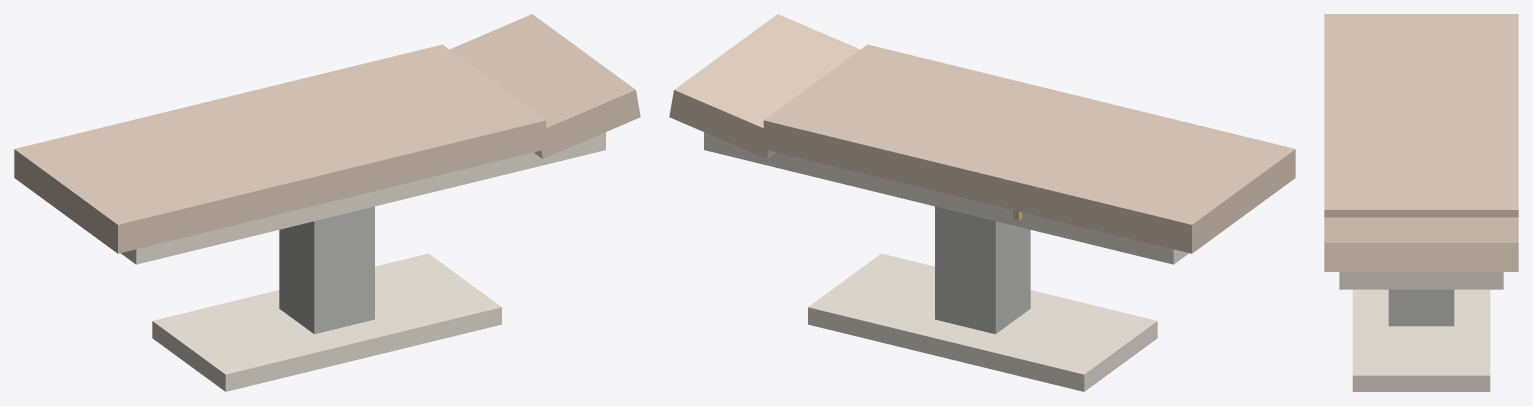
Rendered from maca_profissional.obj.
3 views of the same model, side by side, from view 1: azimuth 30°, elevation 25°; view 2: azimuth 150°, elevation 25°; view 3: azimuth 270°, elevation 25° (orthographic). The views are drawn at different scales.
Visible parts, largest first — view 1: maca_profissional; view 2: maca_profissional; view 3: maca_profissional.
Boxes of the visible parts, bbox=[...] form: maca_profissional: bbox=[14, 14, 640, 391]; maca_profissional: bbox=[669, 14, 1295, 391]; maca_profissional: bbox=[1324, 14, 1518, 391].
Bounding box in the file's own units: 1.89 × 0.7497 × 0.65.
